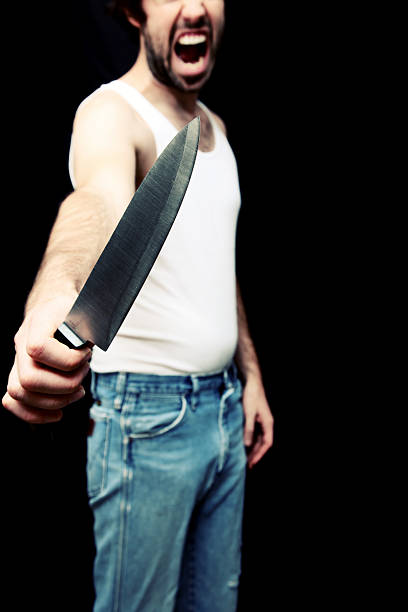knife: (50, 112, 204, 355)
